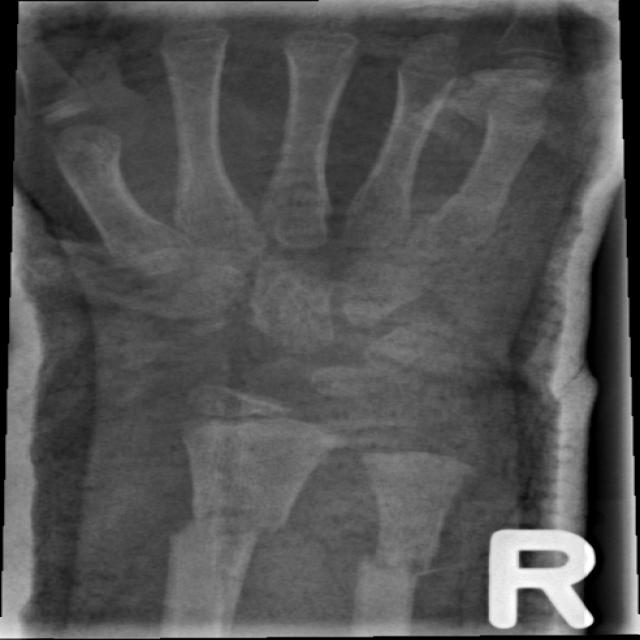radius fracture: (165, 454, 315, 621)
ulna fracture: (326, 507, 475, 614)
